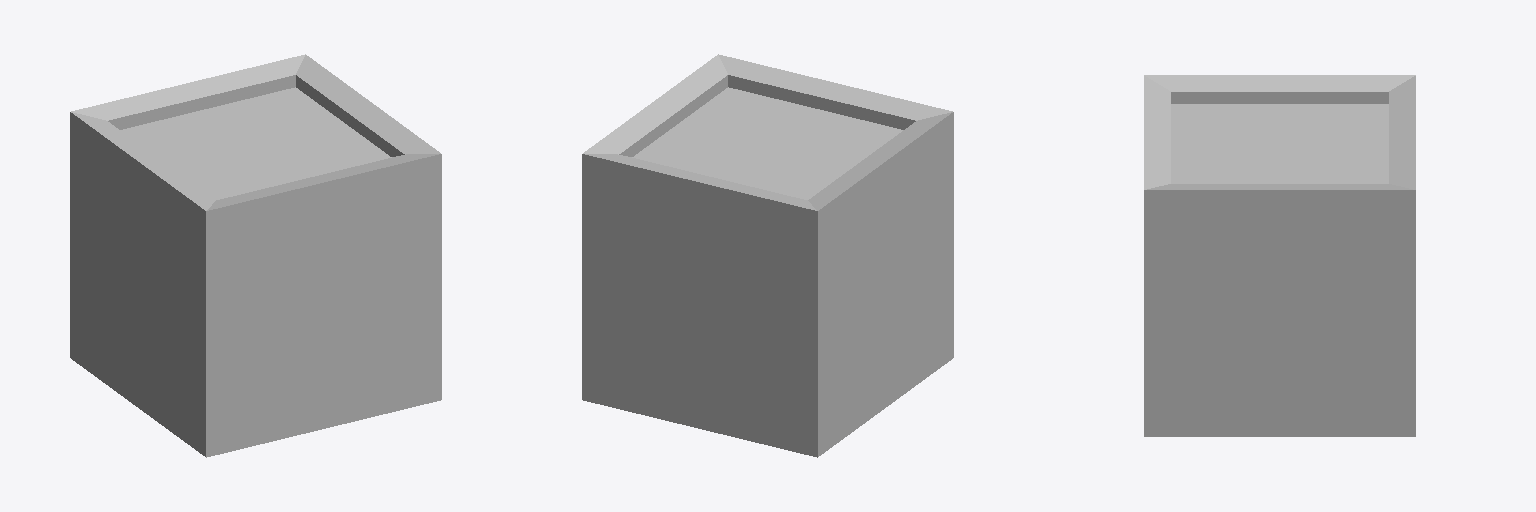
The model's file is screenWhole.obj.
The picture shows the model from 3 angles: view 1: azimuth 30°, elevation 25°; view 2: azimuth 150°, elevation 25°; view 3: azimuth 270°, elevation 25°; orthographic projection.
Visible parts, largest first — view 1: main; view 2: main; view 3: main.
Part boxes in pixels (x1,y1,x2,y2): main: (70,54,441,457); main: (582,54,953,457); main: (1144,75,1415,436).
Bounding box in the file's own units: 1 × 1 × 1.